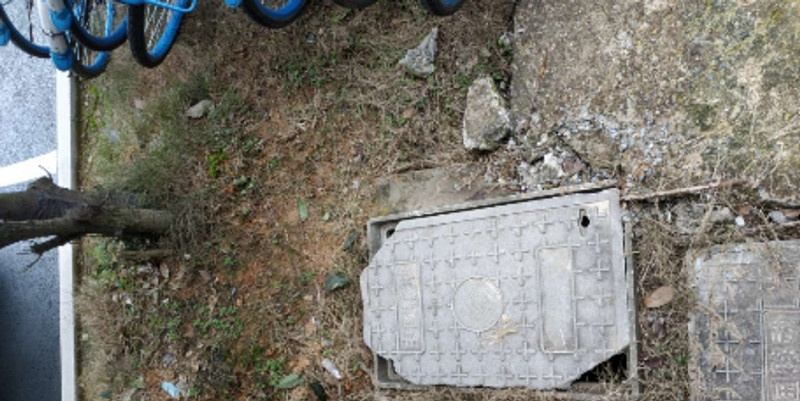well: (358, 176, 640, 390), (685, 236, 800, 401)
